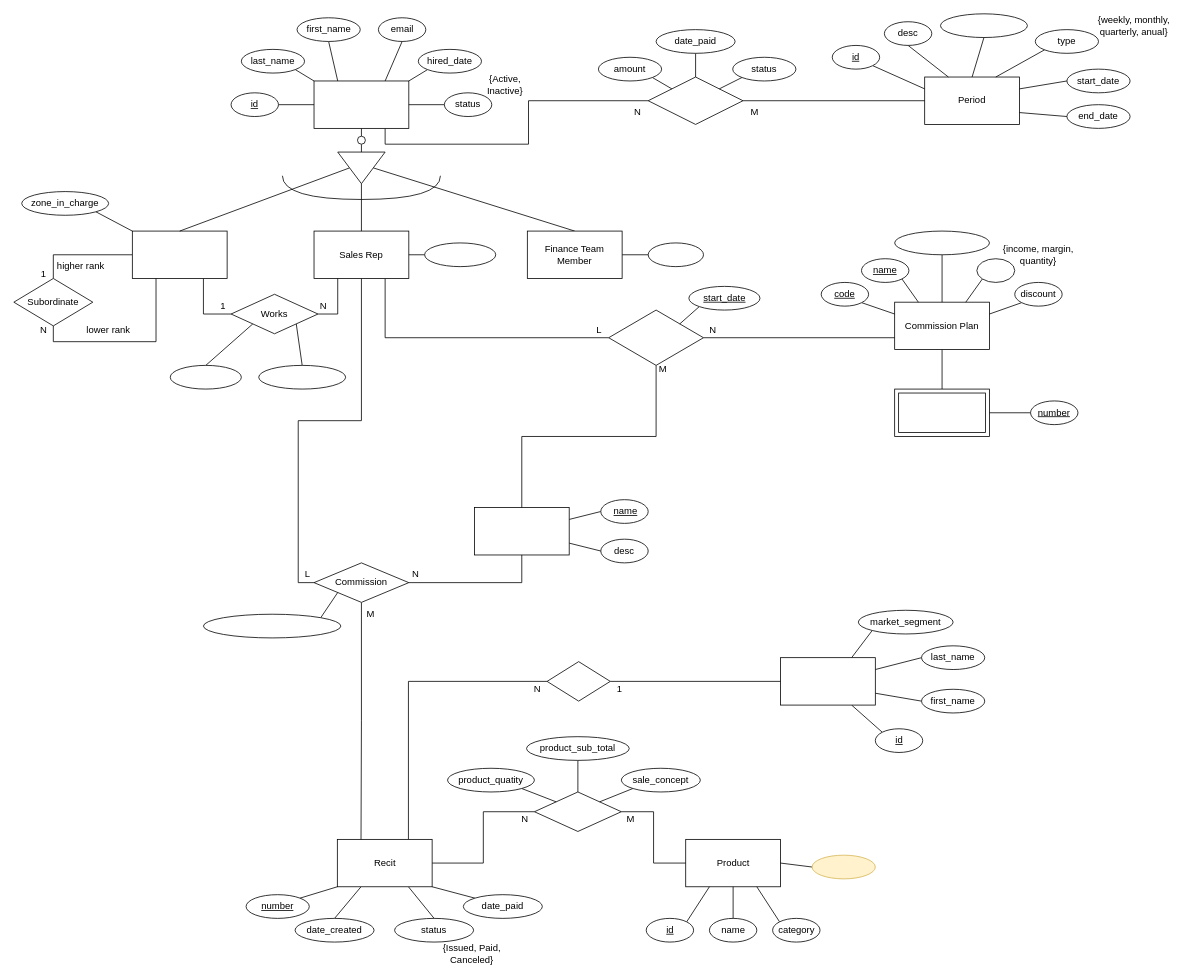
This 1191x980 diagram has some shape labels left out. Here are the shapes that lost their labels. From the top down, the centre of each, then its label:
At (x=983, y=25): "aditional_notes".
At (x=361, y=104): "Person".
At (x=695, y=100): "Payment".
At (x=179, y=254): "Supervisor".
At (x=460, y=254): "sales_quota".
At (x=675, y=254): "job_title".
At (x=941, y=242): "commission_rate".
At (x=995, y=270): "base".
At (x=655, y=337): "Commission Plan History".
At (x=205, y=377): "validity_date".
At (x=302, y=377): "recognition_rate".
At (x=942, y=412): "Filter".
At (x=521, y=531): "Role".
At (x=272, y=625): "participation_percentage".
At (x=578, y=681): "Has".
At (x=827, y=681): "Client".
At (x=577, y=811): "Recit Detail".
At (x=843, y=866): "unit_price?".
